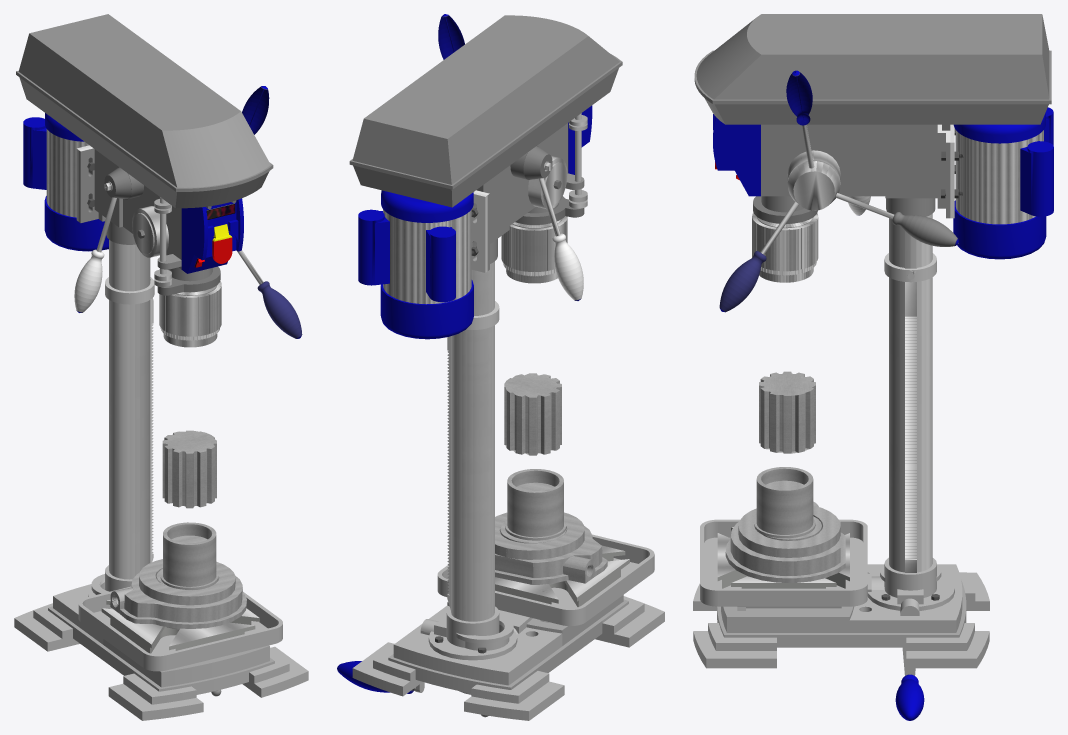
3 renders of one model, left to right at view 1: azimuth 30°, elevation 25°; view 2: azimuth 150°, elevation 25°; view 3: azimuth 270°, elevation 25°, orthographic. The views are drawn at different scales.
Visible parts, largest first — view 1: 01, 04, 3, 2, 1, 03, 02.001; view 2: 01, 04, 3, 2, 1, 03, 02.001; view 3: 01, 04, 02.001, 3, 2, 1, 03.
Boxes of the visible parts, x1=… form: 01: x1=14, y1=14, x2=308, y2=720; 04: x1=78, y1=574, x2=282, y2=696; 3: x1=110, y1=559, x2=246, y2=629; 2: x1=162, y1=430, x2=216, y2=508; 1: x1=160, y1=522, x2=218, y2=589; 03: x1=159, y1=281, x2=221, y2=347; 02.001: x1=236, y1=86, x2=302, y2=338; 01: x1=349, y1=15, x2=664, y2=720; 04: x1=337, y1=534, x2=654, y2=717; 3: x1=495, y1=512, x2=607, y2=584; 2: x1=504, y1=373, x2=561, y2=455; 1: x1=505, y1=469, x2=566, y2=540; 03: x1=501, y1=216, x2=567, y2=283; 02.001: x1=438, y1=14, x2=464, y2=59; 01: x1=693, y1=14, x2=1053, y2=668; 04: x1=700, y1=519, x2=941, y2=720; 02.001: x1=719, y1=70, x2=958, y2=312; 3: x1=725, y1=501, x2=845, y2=582; 2: x1=759, y1=371, x2=815, y2=453; 1: x1=754, y1=467, x2=815, y2=538; 03: x1=752, y1=212, x2=818, y2=282.
Size of the model in its own units: 141 by 382 by 197.
Materials: 39 (12 with a texture image).
